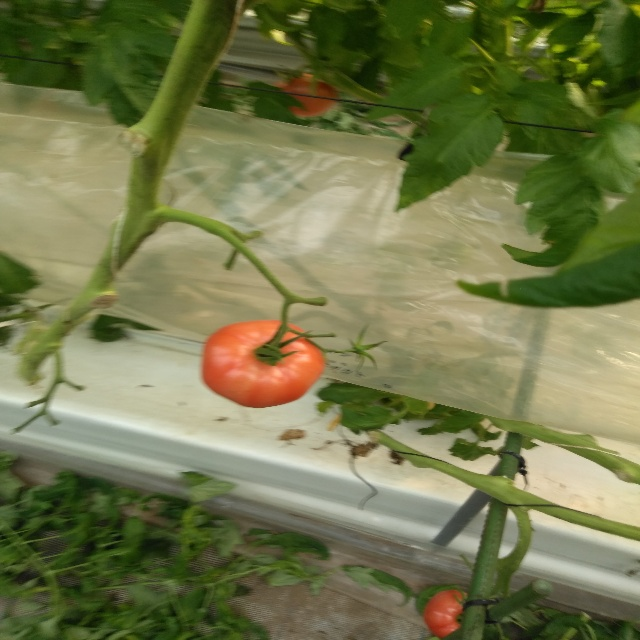b_half_ripened: (200, 319, 325, 408), (424, 590, 468, 636)
